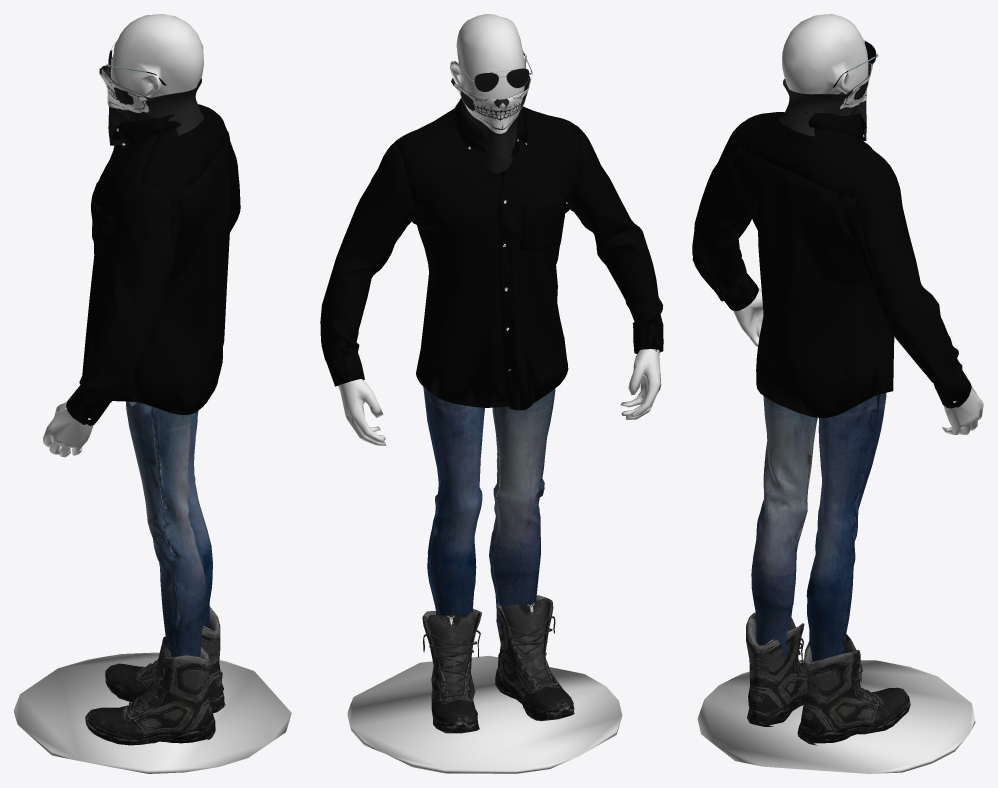
File: manq.glb
3 renders of one model, left to right at view 1: azimuth 30°, elevation 25°; view 2: azimuth 150°, elevation 25°; view 3: azimuth 270°, elevation 25°, orthographic.
Parts seen in each view (by area): view 1: t-shirt, buttons.001, JEANS_BACK_0.001, Object_2.018, Object_7, Object_2; view 2: t-shirt, buttons.001, JEANS_BACK_0.001, Object_2.018, Object_7, Object_2, Lenses; view 3: t-shirt, buttons.001, JEANS_BACK_0.001, Object_2.018, Object_7.
Boxes of the visible parts, x1,y1,x2,y2 form: t-shirt: (66, 98, 240, 425); buttons.001: (14, 14, 291, 773); JEANS_BACK_0.001: (125, 401, 212, 657); Object_2.018: (85, 606, 225, 745); Object_7: (99, 65, 204, 145); Object_2: (98, 64, 149, 112); t-shirt: (320, 97, 663, 410); buttons.001: (338, 14, 661, 773); JEANS_BACK_0.001: (423, 387, 555, 629); Object_2.018: (422, 595, 574, 733); Object_7: (451, 76, 530, 173); Object_2: (454, 78, 531, 133); Lenses: (454, 53, 532, 92); t-shirt: (692, 111, 971, 418); buttons.001: (697, 14, 983, 773); JEANS_BACK_0.001: (751, 393, 886, 661); Object_2.018: (746, 612, 910, 745); Object_7: (779, 63, 872, 141).
Size of the model in its own units: 0.57 by 1.46 by 0.5496.
Materials: 6 (4 with a texture image).
